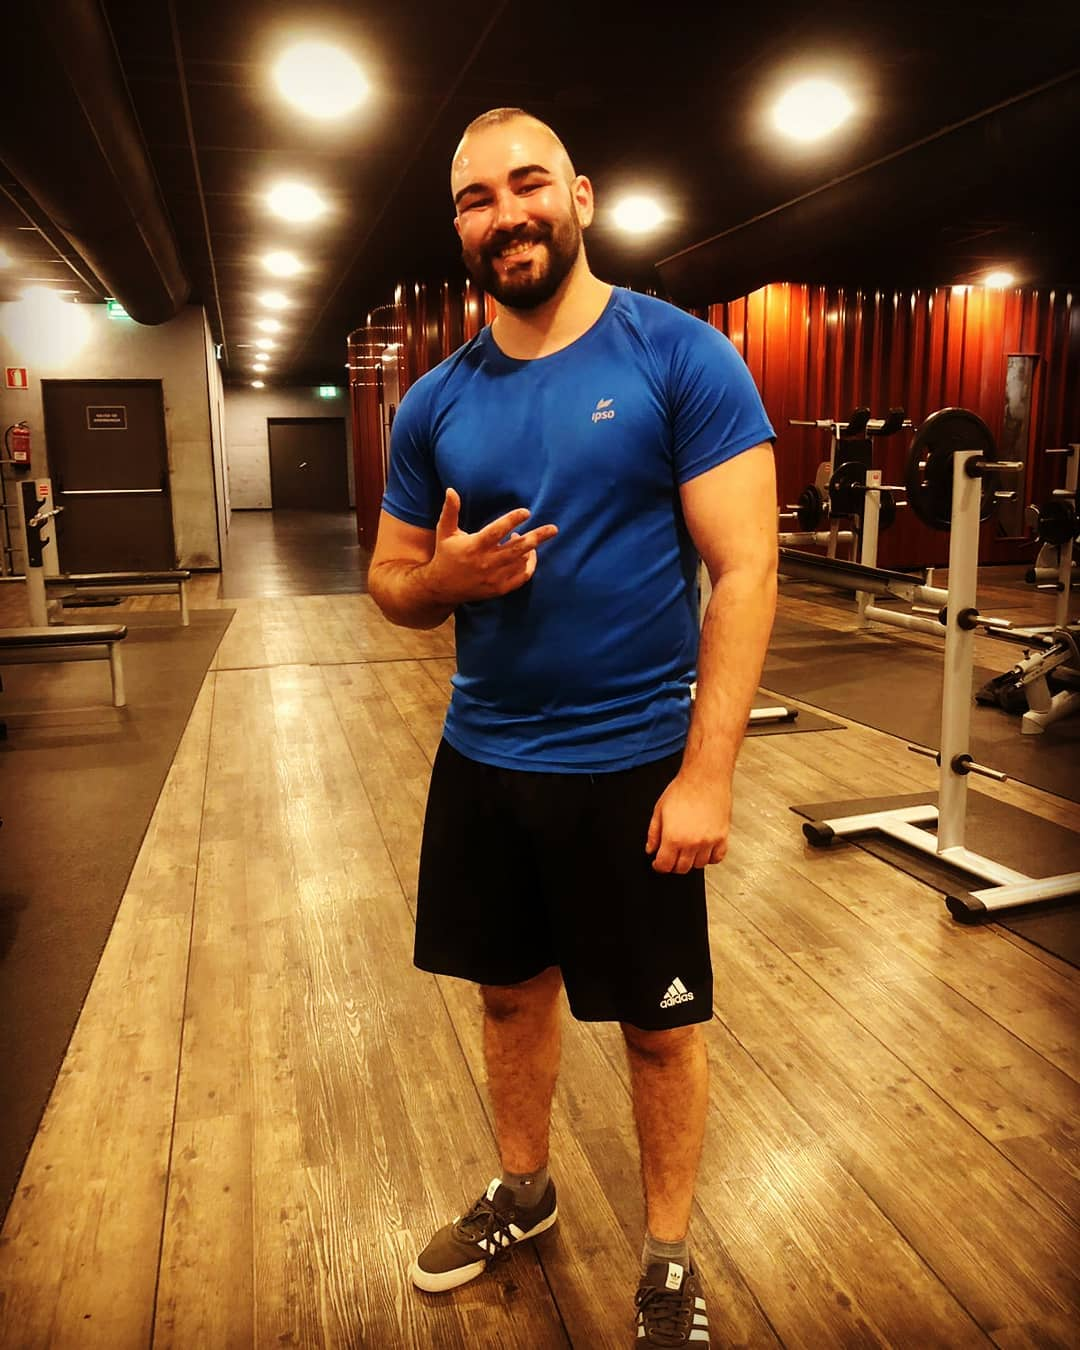adidas_1: (649, 966, 706, 1016)
